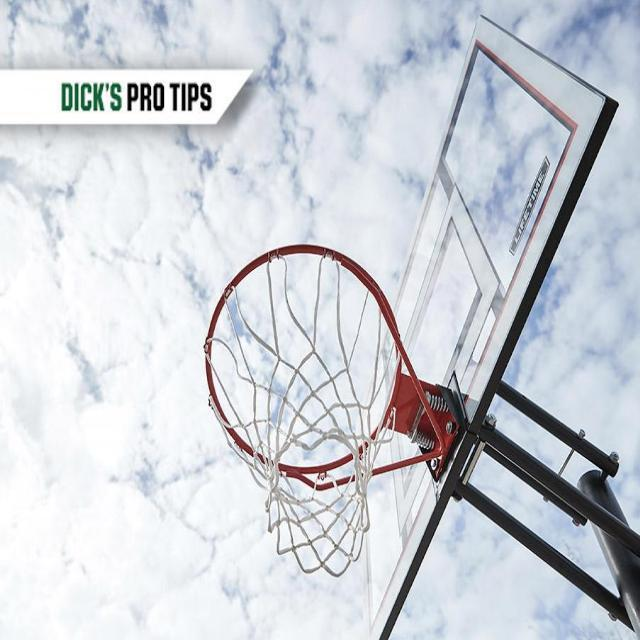hoop: (204, 243, 402, 578)
